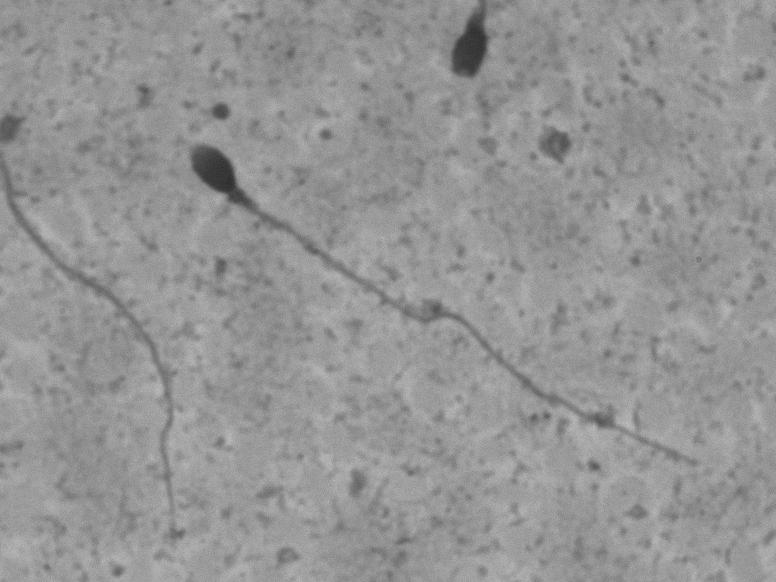Normal: (163, 129, 715, 487)
